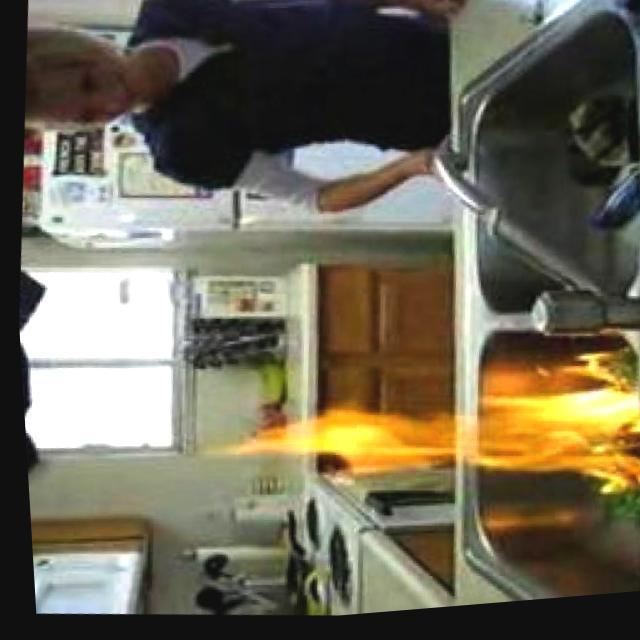Fire: (194, 327, 640, 523), (193, 327, 640, 522)
